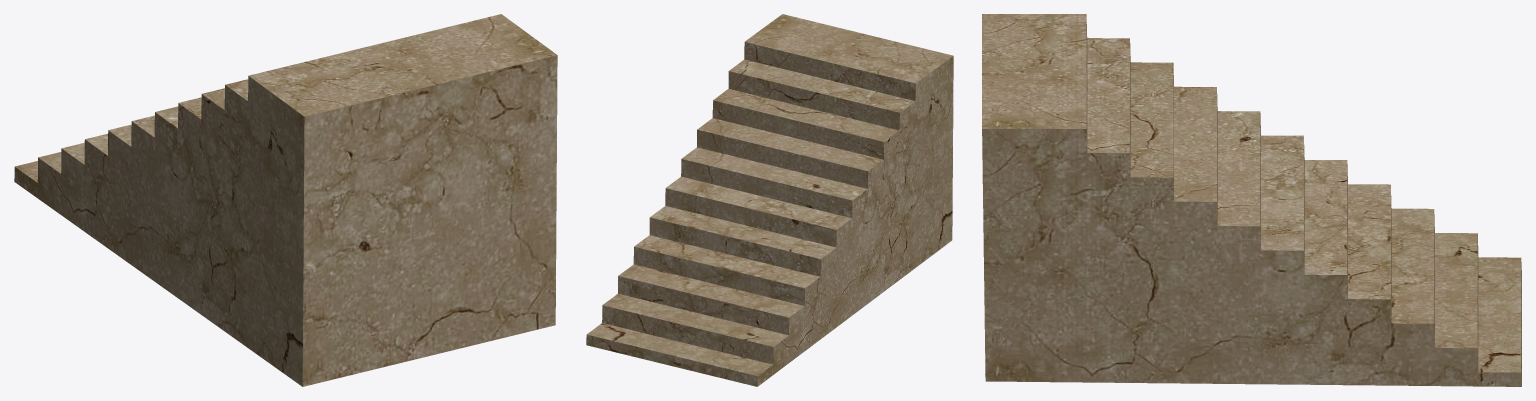
File: pasted__stone_column_863.fbx
3 renders of one model, left to right at view 1: azimuth 30°, elevation 25°; view 2: azimuth 150°, elevation 25°; view 3: azimuth 270°, elevation 25°, orthographic. The views are drawn at different scales.
Visible parts, largest first — view 1: pasted__stone_column_863; view 2: pasted__stone_column_863; view 3: pasted__stone_column_863.
Part boxes in pixels (<box>): pasted__stone_column_863: <box>14,14,557,386</box>; pasted__stone_column_863: <box>586,14,953,386</box>; pasted__stone_column_863: <box>982,14,1521,386</box>.
Size of the model in its own units: 79 by 157 by 82.76.
